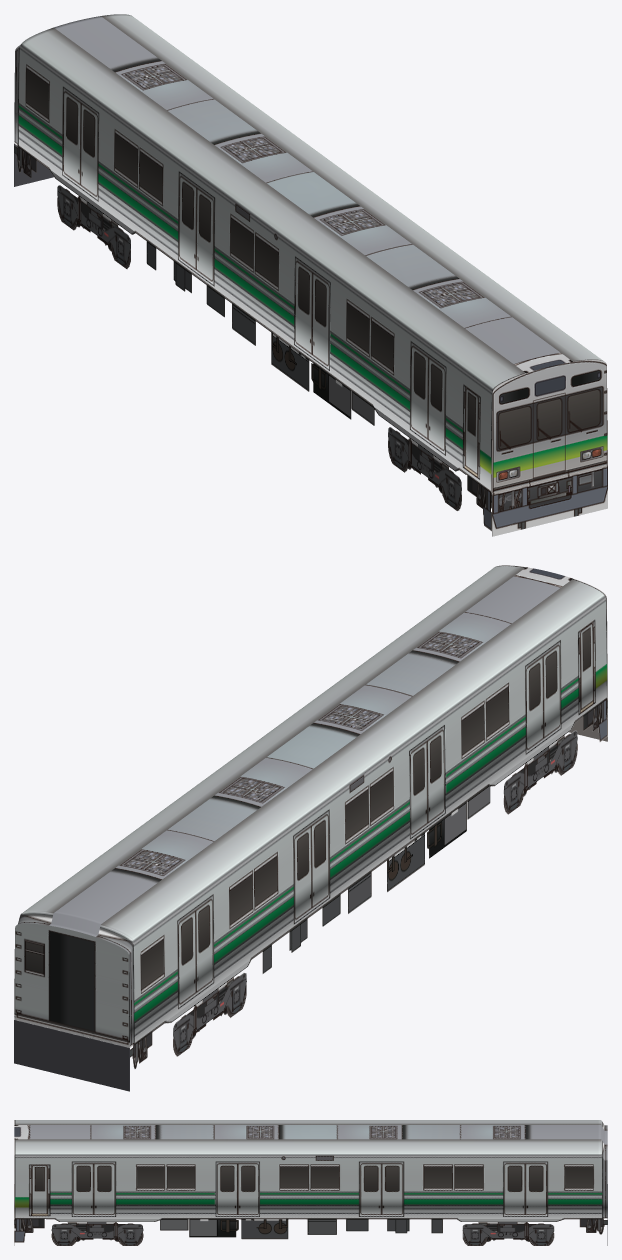
File: car1.glb
3 views of the same model, one above another, from view 1: azimuth 30°, elevation 25°; view 2: azimuth 150°, elevation 25°; view 3: azimuth 270°, elevation 25° (orthographic). The views are drawn at different scales.
Parts seen in each view (by area): view 1: titibu-7500-car1; view 2: titibu-7500-car1; view 3: titibu-7500-car1.
Boxes of the visible parts, x1=… form: titibu-7500-car1: x1=14, y1=14, x2=607, y2=536; titibu-7500-car1: x1=14, y1=565, x2=607, y2=1091; titibu-7500-car1: x1=14, y1=1120, x2=607, y2=1245.
Bounding box in the file's own units: 2.8 × 3.6 × 20.03.
Materials: 8 (7 with a texture image).
